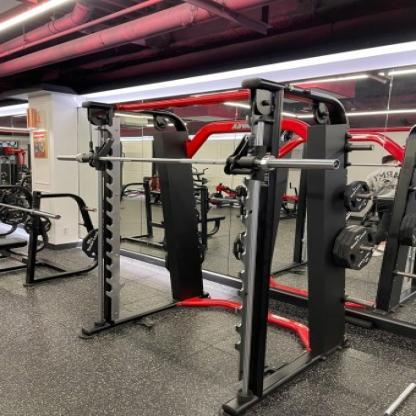smith machine: (78, 75, 354, 416)
